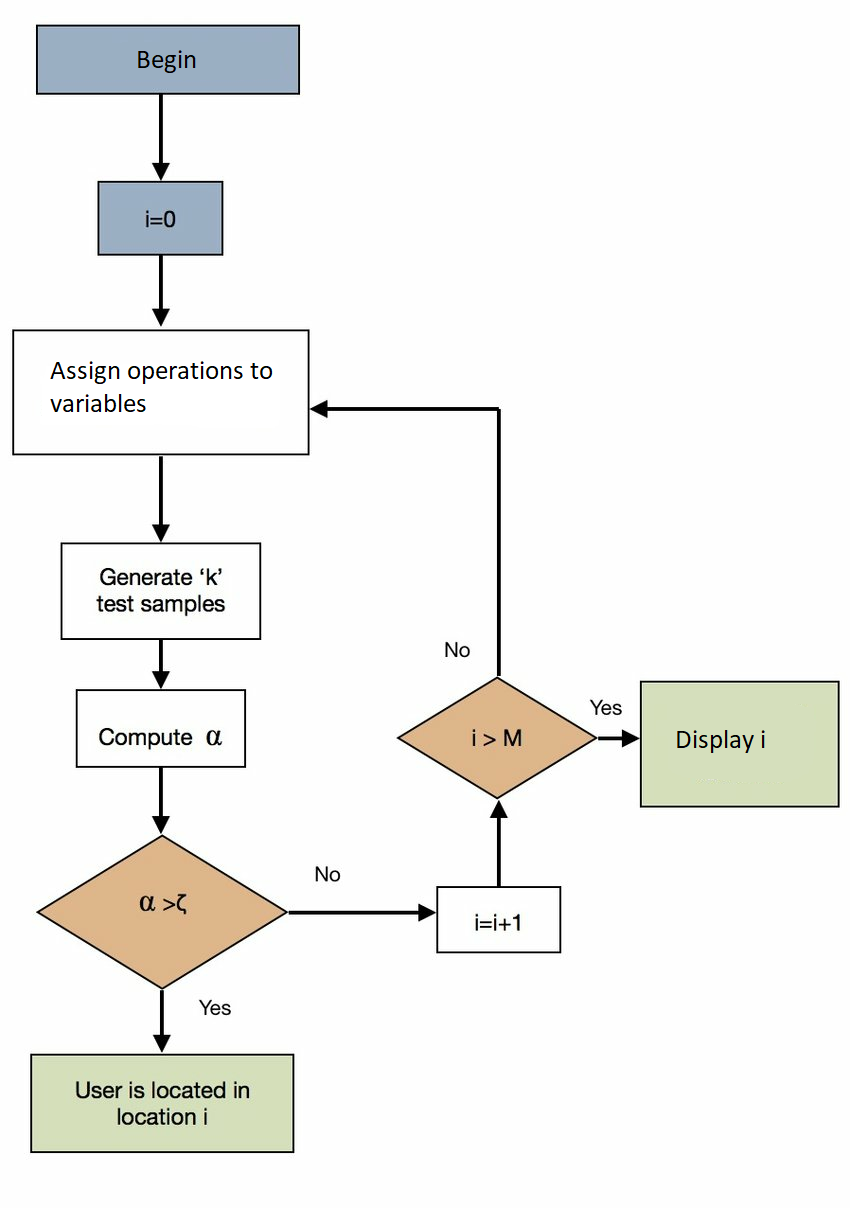arrow: (308, 396, 512, 686), (281, 902, 440, 924), (485, 793, 513, 893), (147, 87, 175, 184), (146, 454, 175, 543), (146, 760, 172, 840), (146, 985, 175, 1056), (148, 254, 174, 327), (586, 728, 641, 754), (149, 636, 172, 696)
decision: (32, 829, 290, 993), (392, 673, 598, 799)
process: (7, 321, 315, 460), (634, 673, 848, 815), (22, 1047, 300, 1153), (31, 19, 307, 102), (55, 538, 267, 644), (70, 683, 257, 772), (91, 176, 227, 258), (431, 880, 566, 958)
text: (43, 359, 280, 412), (68, 1074, 255, 1125), (89, 558, 234, 622), (91, 721, 227, 751), (668, 722, 775, 758), (132, 44, 198, 79), (131, 884, 190, 921), (178, 990, 241, 1020), (469, 903, 524, 936), (461, 726, 524, 751), (140, 205, 182, 235), (585, 693, 625, 721), (311, 861, 346, 891), (436, 635, 472, 663)
